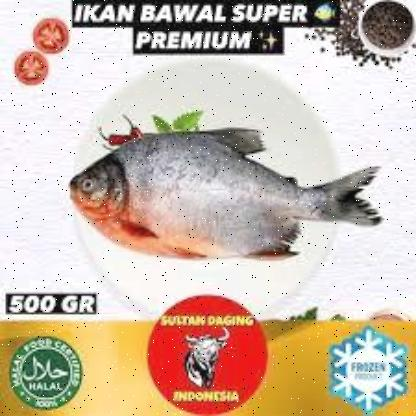ikan-pacu: (65, 132, 366, 258)
